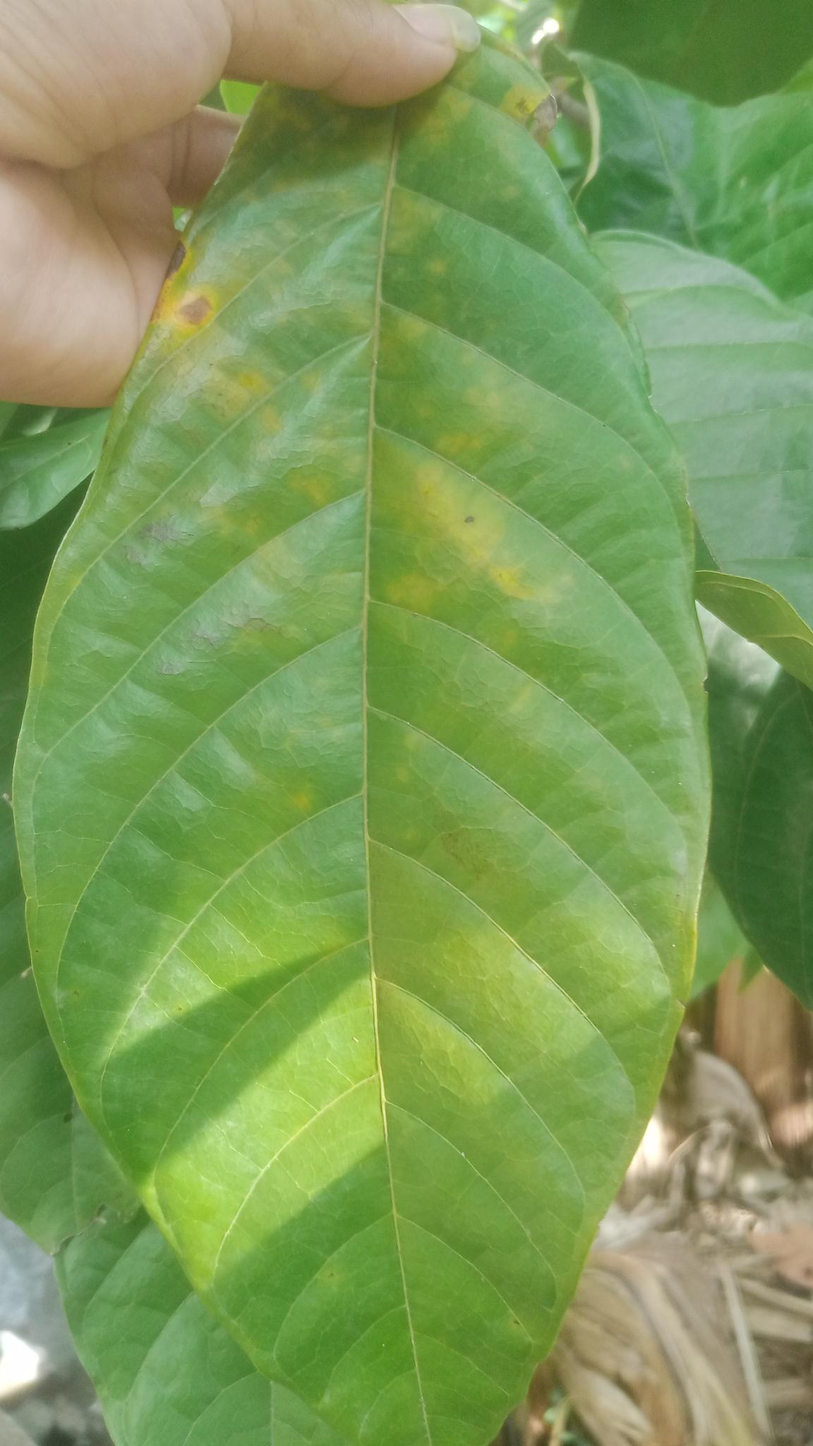Fosforo: (41, 34, 700, 1446)
